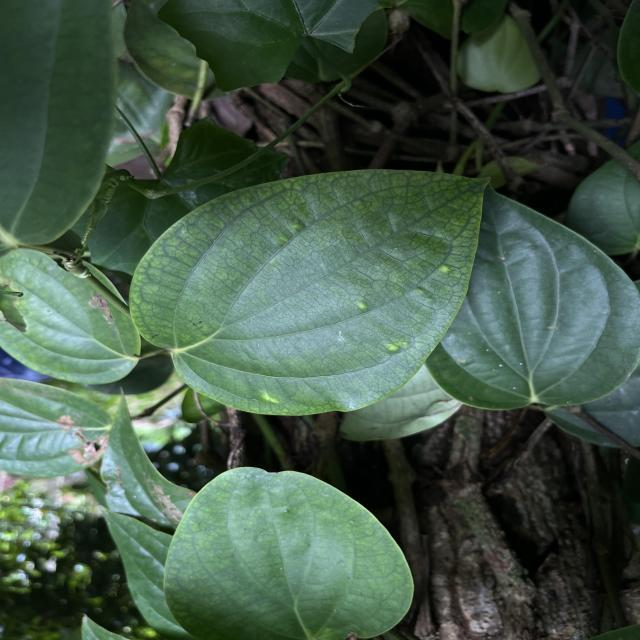Piper nigrum: (125, 163, 499, 420)
